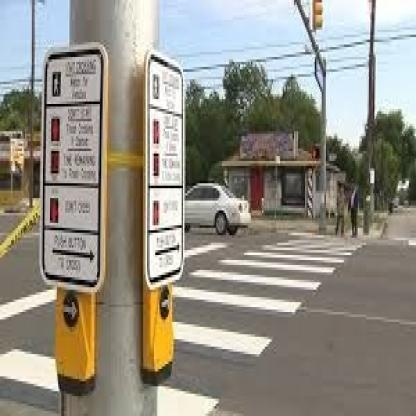Crosswalk: (175, 223, 368, 416)
Don-t Walk: (312, 147, 322, 160)
Walk: (52, 72, 61, 96)
